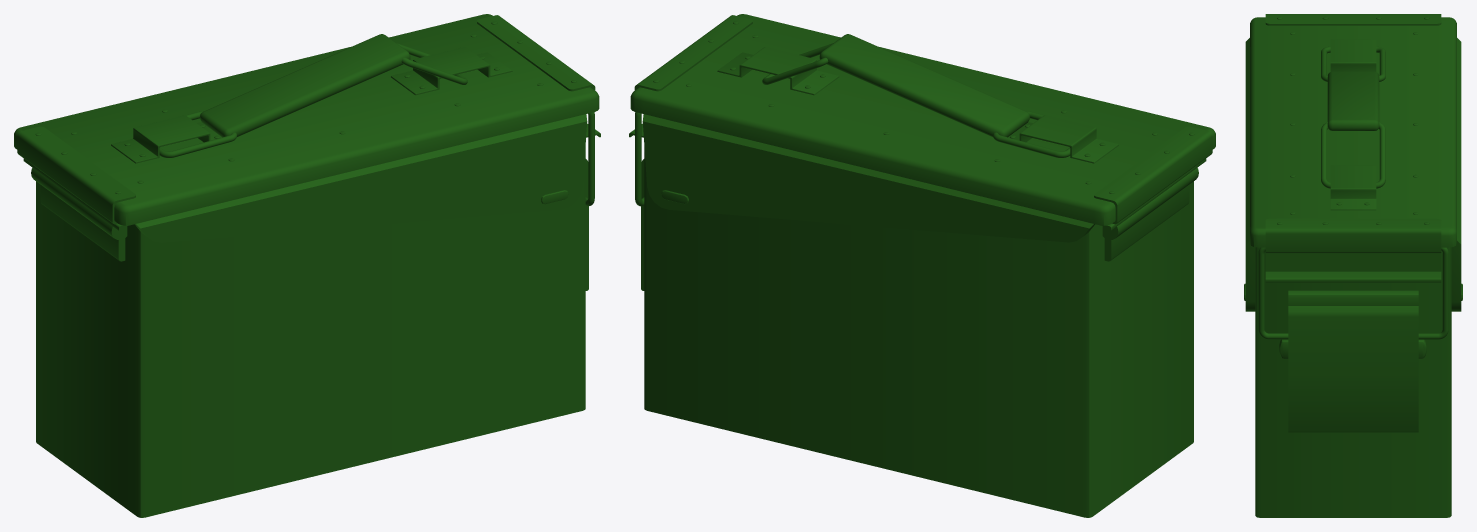
3 views of the same model, side by side, from view 1: azimuth 30°, elevation 25°; view 2: azimuth 150°, elevation 25°; view 3: azimuth 270°, elevation 25° (orthographic). The views are drawn at different scales.
Visible parts, largest first — view 1: Ammo_Box; view 2: Ammo_Box; view 3: Ammo_Box.
Part boxes in pixels (x1,y1,x2,y2): Ammo_Box: (14, 14, 600, 517); Ammo_Box: (629, 14, 1215, 517); Ammo_Box: (1244, 14, 1462, 517).
Size of the model in its own units: 0.5473 by 0.3878 by 0.2301.
